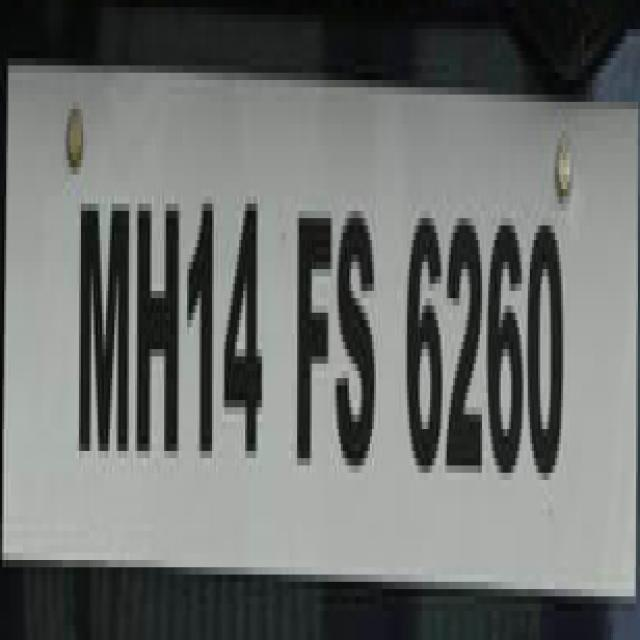0: (525, 219, 573, 479)
1: (185, 194, 222, 472)
4: (224, 184, 266, 474)
6: (402, 197, 446, 484), (486, 204, 530, 476)
F: (290, 197, 335, 476)
H: (135, 183, 183, 472)
M: (76, 188, 132, 463)
S: (337, 203, 381, 500)
